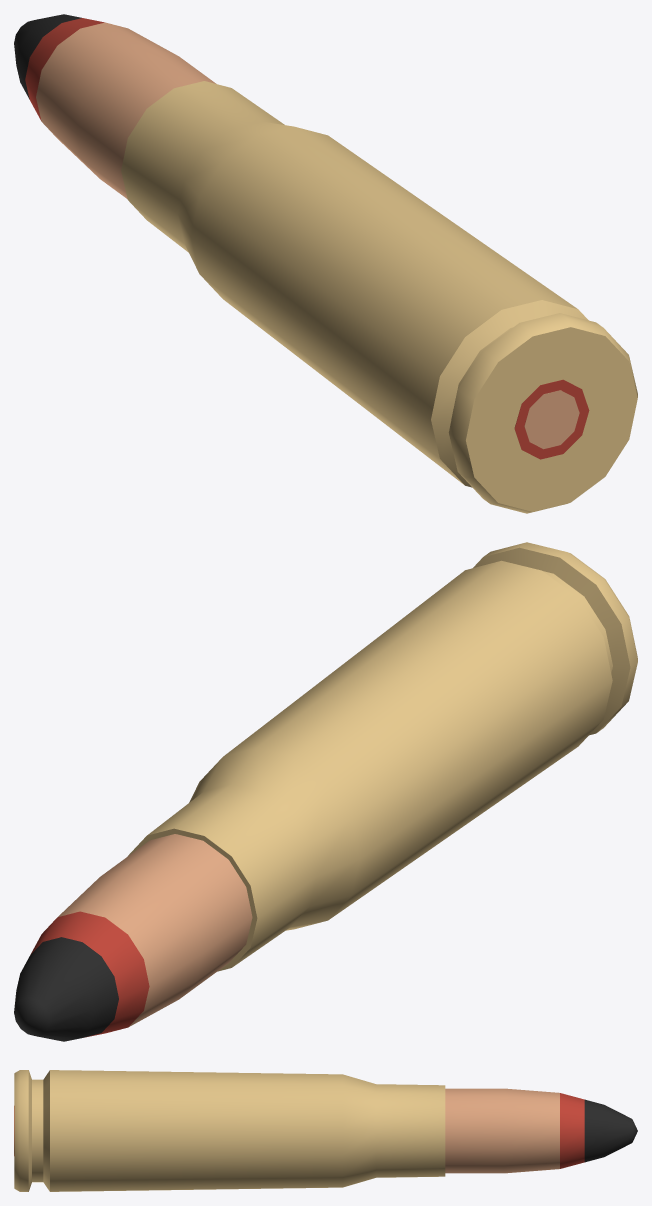
Rendered from round_762x39_ap.glb.
The picture shows the model from 3 angles, top to bottom: view 1: azimuth 30°, elevation 25°; view 2: azimuth 150°, elevation 25°; view 3: azimuth 270°, elevation 25°; orthographic projection. The views are drawn at different scales.
Parts seen in each view (by area): view 1: body; view 2: body; view 3: body.
Part boxes in pixels (<box>): body: <box>14,14,637,513</box>; body: <box>14,542,637,1041</box>; body: <box>14,1070,637,1191</box>.
Bounding box in the file's own units: 0.0112 × 0.0109 × 0.056.
